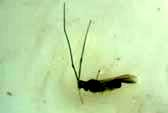Helopeltis-insect: (74, 73, 139, 94)
